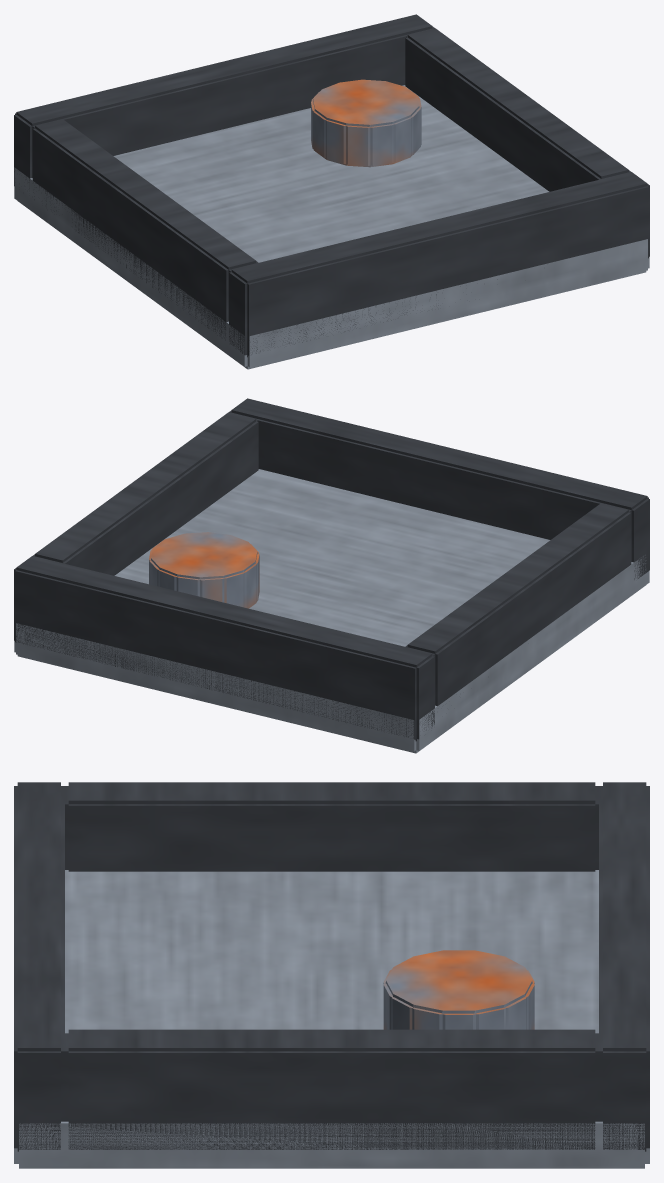
File: roof_flat_steel.glb
3 renders of one model, top to bottom at view 1: azimuth 30°, elevation 25°; view 2: azimuth 150°, elevation 25°; view 3: azimuth 270°, elevation 25°, orthographic. The views are drawn at different scales.
Visible parts, largest first — view 1: roof_flat_steel; view 2: roof_flat_steel; view 3: roof_flat_steel.
Part boxes in pixels (bbox=[...]): roof_flat_steel: bbox=[14, 14, 649, 369]; roof_flat_steel: bbox=[14, 398, 649, 753]; roof_flat_steel: bbox=[14, 782, 649, 1168].
Size of the model in its own units: 1 by 0.21 by 1.
Materials: 3 (3 with a texture image).
